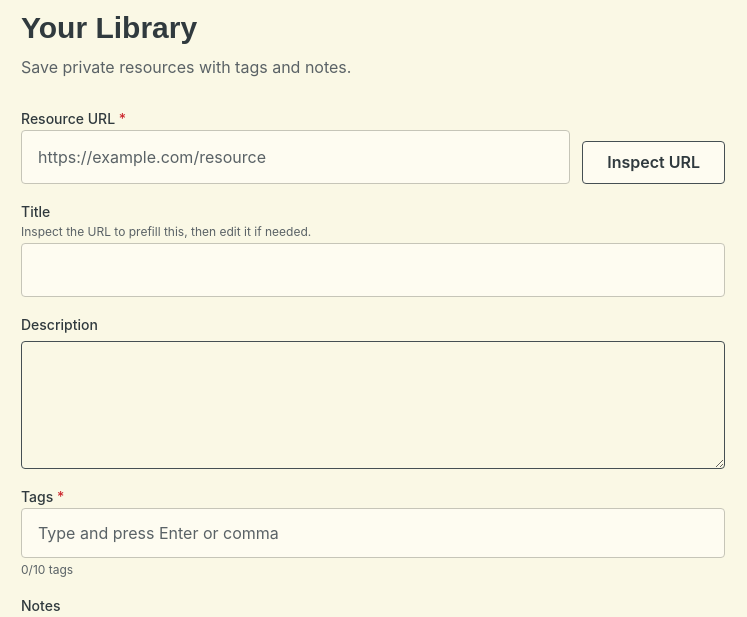
it: LibraryPage metadata inspection › blocks inspection client-side when the URL is invalid
Type "not-a-url" into the field labelled "Resource URL" at (296, 157), box [21, 130, 570, 184]
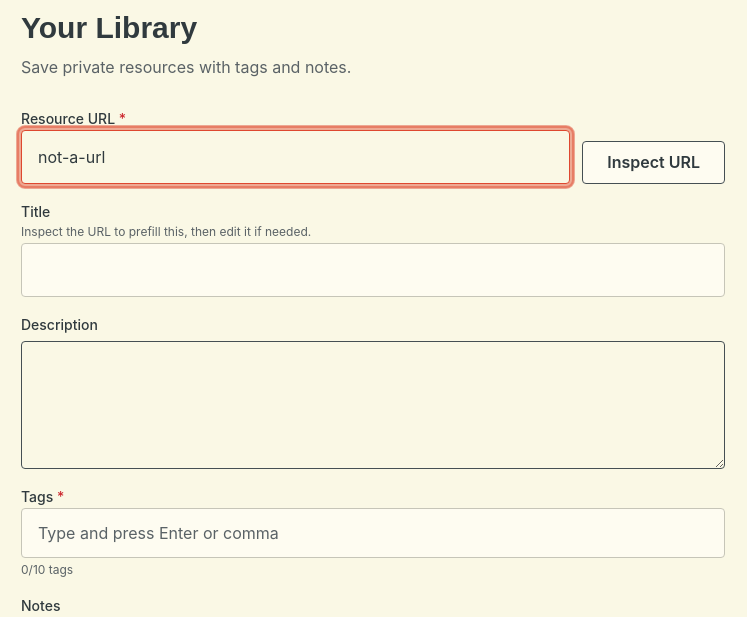
Click the button "Inspect URL" at (654, 163), box [582, 141, 725, 184]
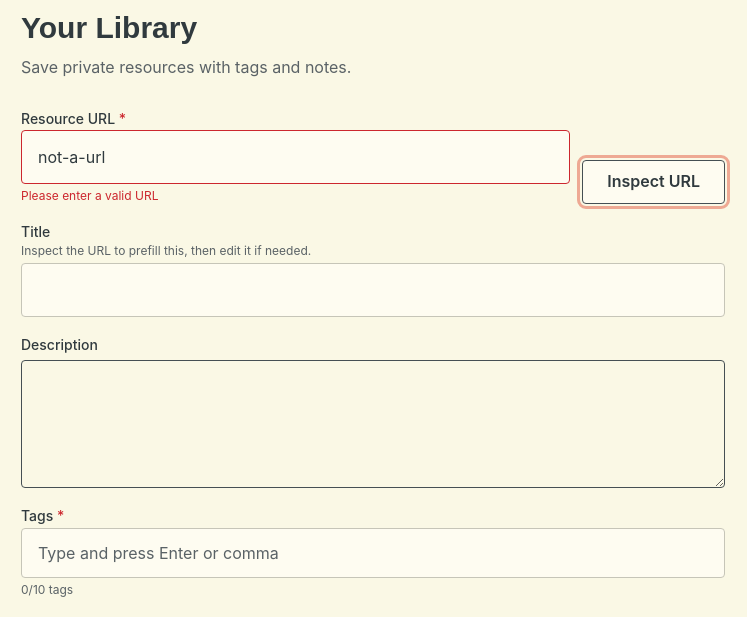
Now the text "Please enter a valid URL" is shown, box [21, 188, 158, 203]
